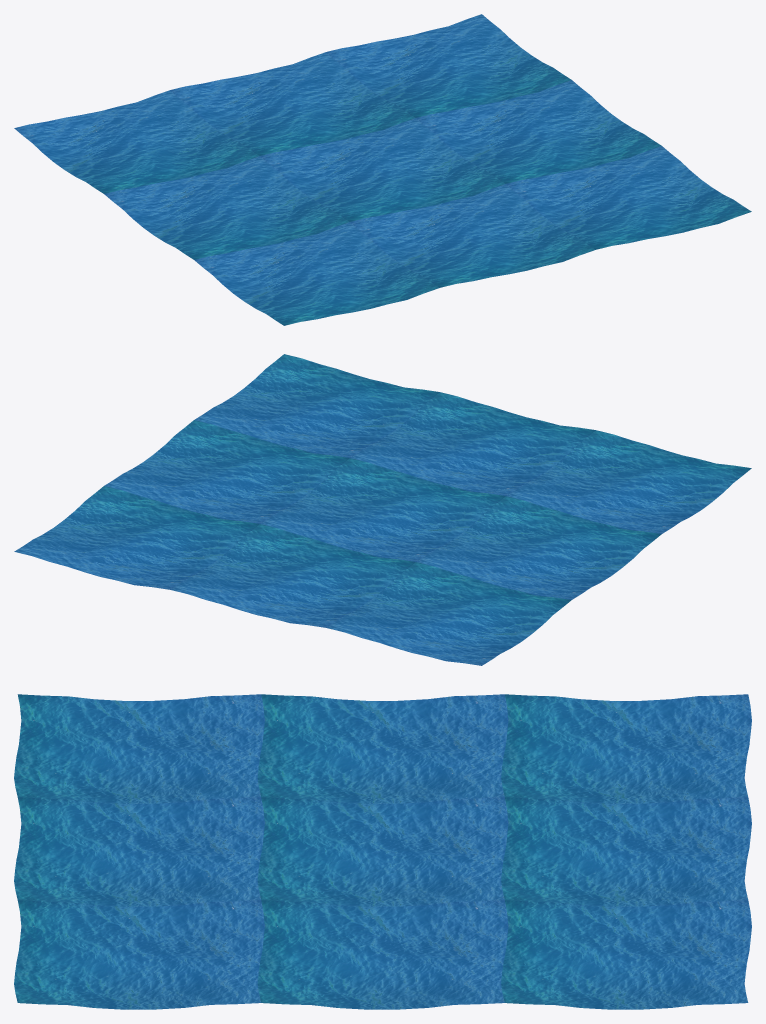
The model's file is ocean_000224.obj.
The picture shows the model from 3 angles, top to bottom: view 1: azimuth 30°, elevation 25°; view 2: azimuth 150°, elevation 25°; view 3: azimuth 270°, elevation 25°; orthographic projection. The views are drawn at different scales.
Parts seen in each view (by area): view 1: Ocean_Plan.001; view 2: Ocean_Plan.001; view 3: Ocean_Plan.001.
Boxes of the visible parts, x1,y1,x2,y2 form: Ocean_Plan.001: [14, 14, 751, 325]; Ocean_Plan.001: [14, 354, 751, 665]; Ocean_Plan.001: [14, 694, 751, 1009].
Size of the model in its own units: 109036 by 1986 by 110068.
1 material, 1 textured.
